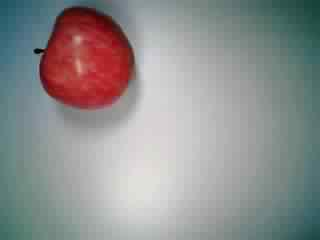apple: (33, 7, 136, 111)
